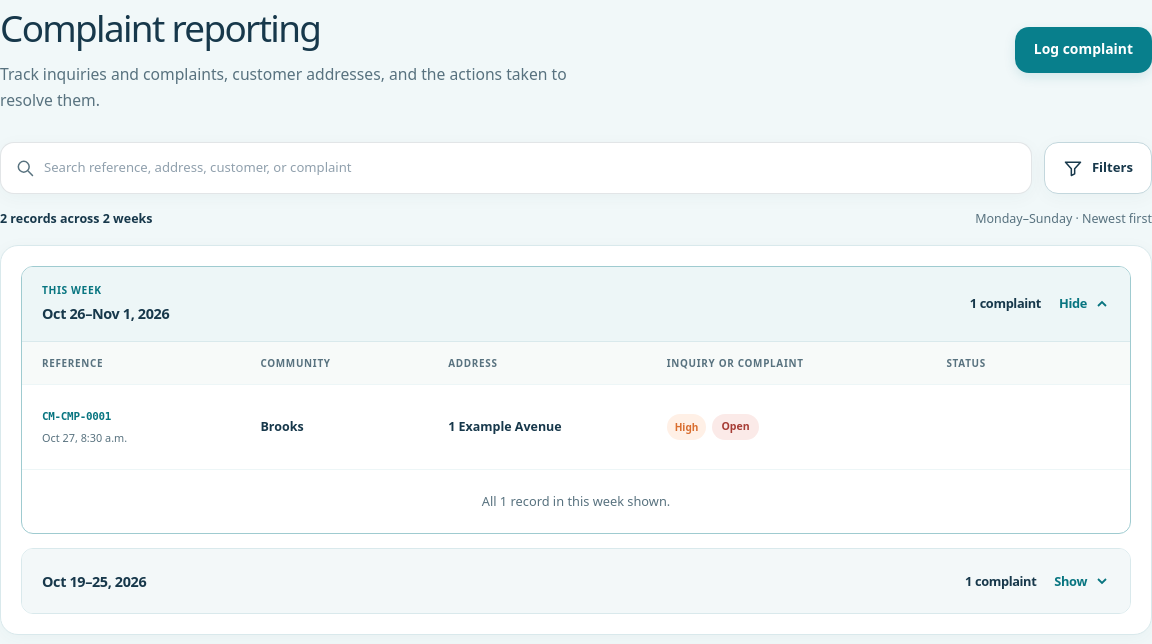
Test: lazy register › starts complaint with no filters, opens this week, and loads older weeks only on demand
Expected: the button "CM-CMP-0001" is shown, [22,385,1130,469]
Click the button "Oct 19–25, 2026 1 complaint Show": (94, 581) [22,549,1130,613]
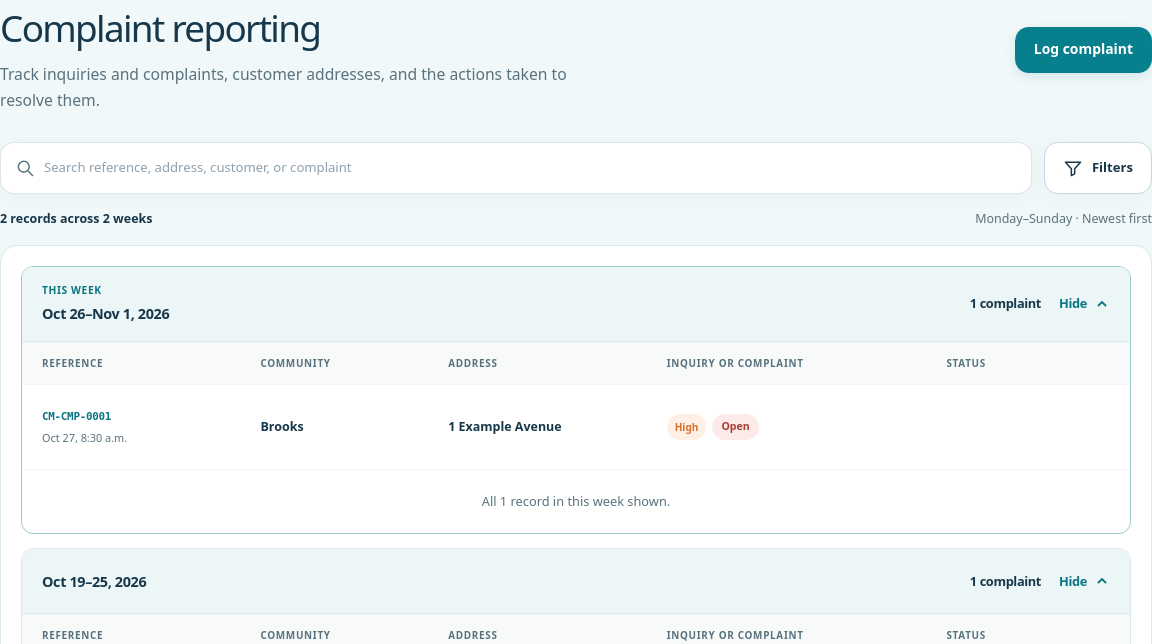
Click the button "Oct 19–25, 2026 1 complaint Hide": (94, 581) [22,549,1130,613]
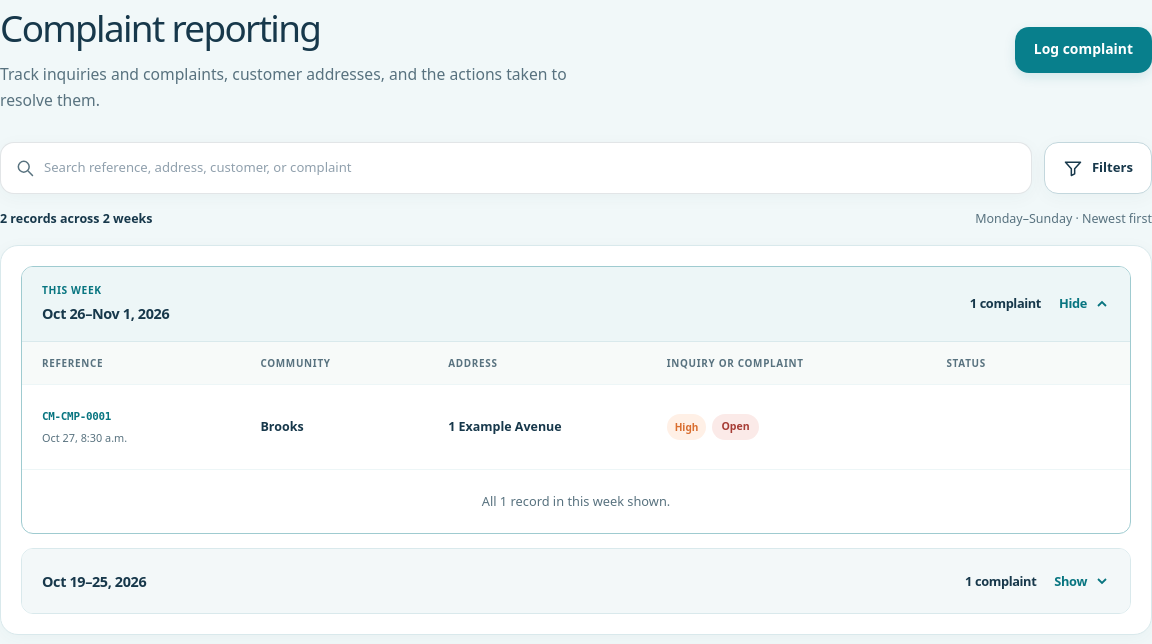
Click the button "Oct 19–25, 2026 1 complaint Show": (94, 581) [22,549,1130,613]
(page scrolled)
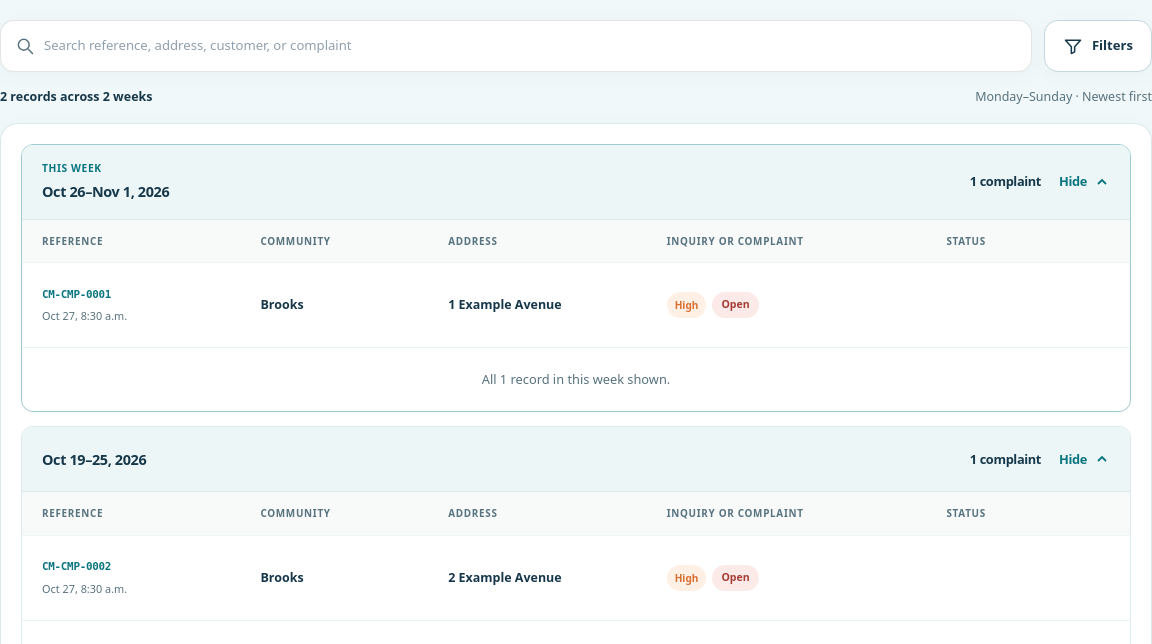
Now the button "CM-CMP-0002" is shown, box [22,536,1130,620]
